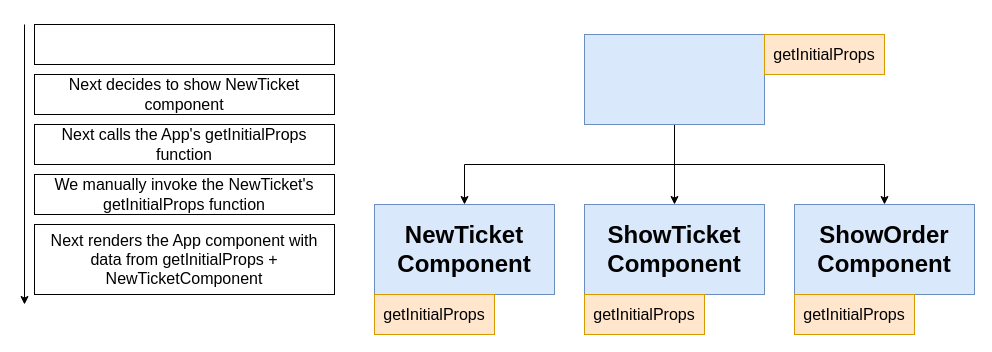
Some shapes in this 992 by 352 pixel diagram are drawn without their labels. The box of each missing label's shape, as (x1, y1, x2, y2) in pixels:
App Component: (584, 34, 764, 124)
User navigates to /tickets/new: (34, 24, 334, 64)
